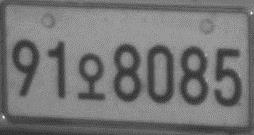0: (147, 44, 174, 103)
1: (45, 39, 67, 99)
5: (213, 48, 242, 107)
8: (179, 45, 208, 105), (114, 42, 141, 103)
9: (11, 39, 41, 97)
오: (77, 52, 106, 102)
